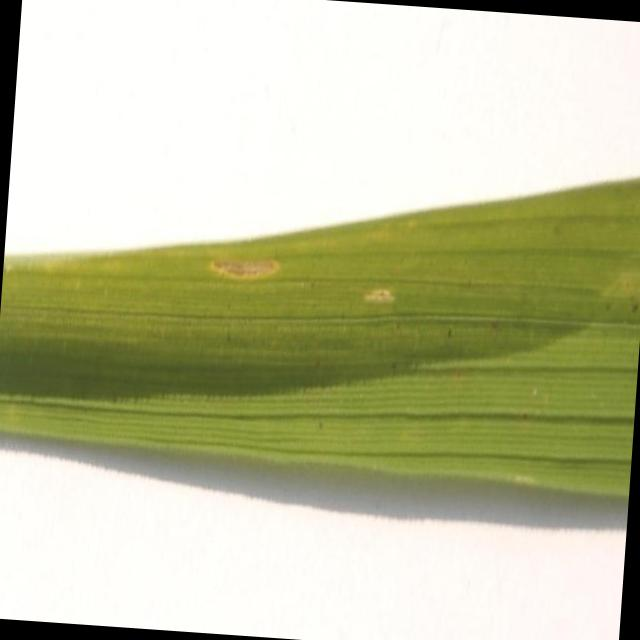Rice_Bacterial_Blight: (176, 221, 298, 315), (343, 241, 442, 332)
